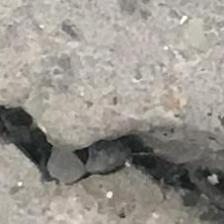Crack: (0, 85, 224, 207)
